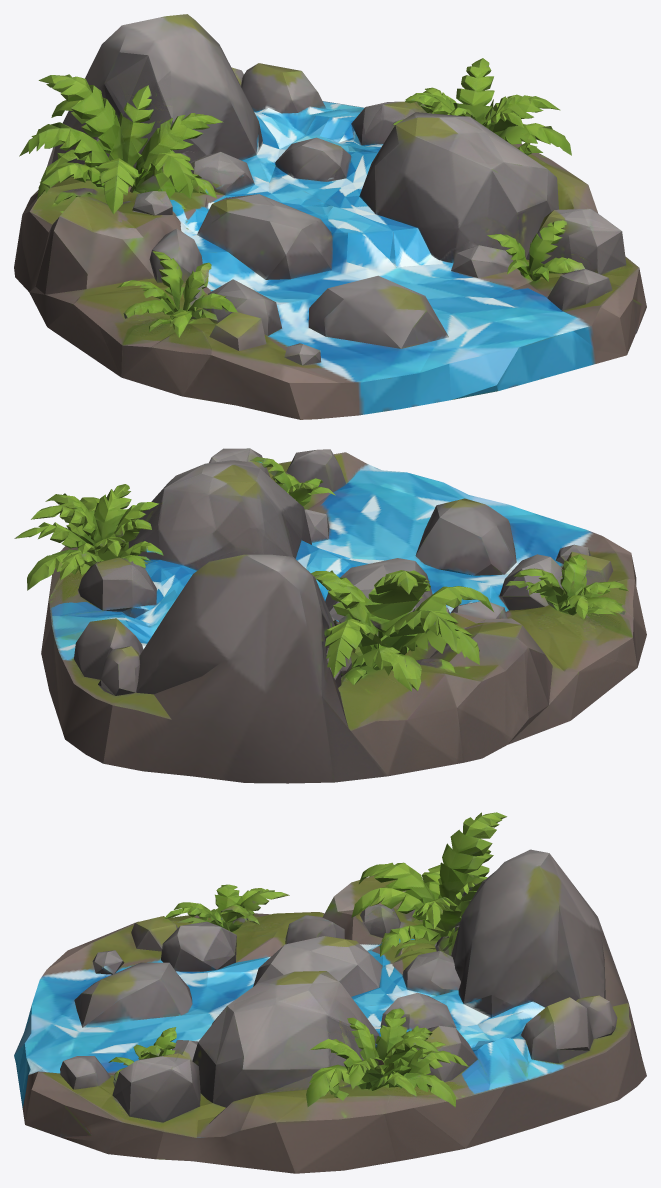
File: valleyRocks.glb
3 views of the same model, one above another, from view 1: azimuth 30°, elevation 25°; view 2: azimuth 150°, elevation 25°; view 3: azimuth 270°, elevation 25° (orthographic). The views are drawn at different scales.
Bounding box in the file's own units: 1.68 × 0.5714 × 1.9.
1 material, 1 textured.
